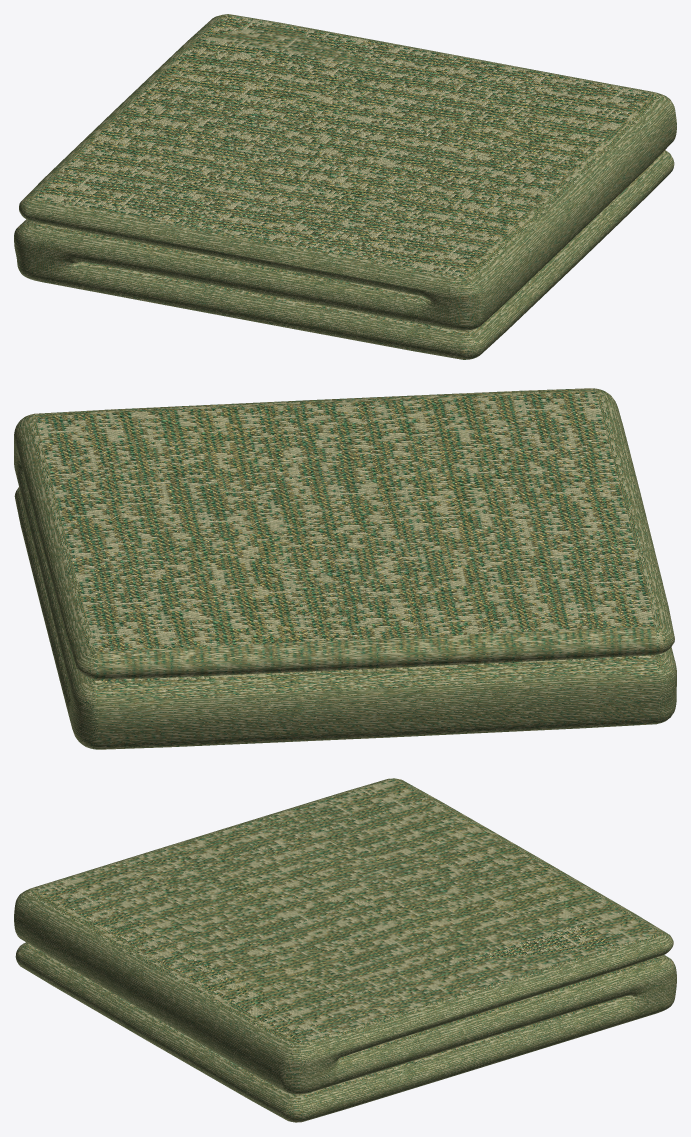
File: sweater5.fbx
The picture shows the model from 3 angles, top to bottom: view 1: azimuth 30°, elevation 25°; view 2: azimuth 150°, elevation 25°; view 3: azimuth 270°, elevation 25°; orthographic projection. The views are drawn at different scales.
Visible parts, largest first — view 1: pCube52; view 2: pCube52; view 3: pCube52.
Part boxes in pixels (x1,y1,x2,y2): pCube52: (14, 14, 676, 359); pCube52: (14, 388, 676, 749); pCube52: (14, 778, 676, 1122).
Bounding box in the file's own units: 0.0136 × 0.00186 × 0.0136.
Materials: 1 (1 with a texture image).
